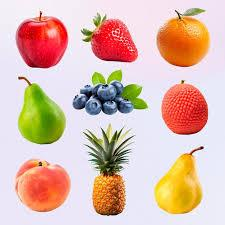Apple: (16, 11, 69, 66)
Orange: (157, 12, 211, 64)
